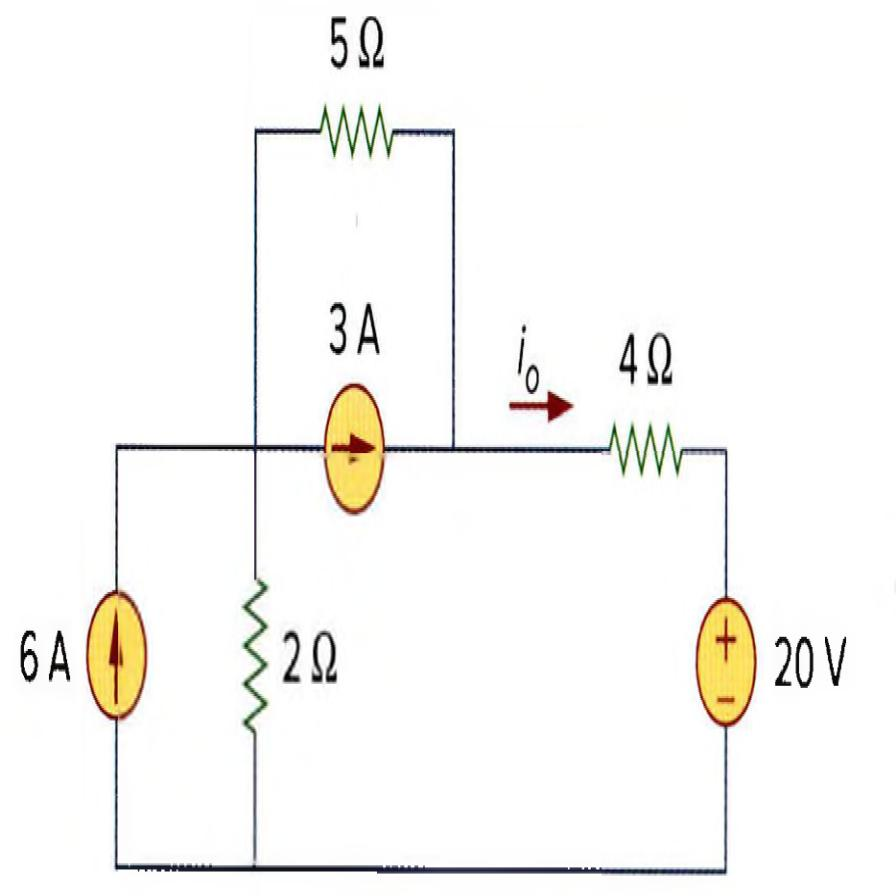I1: (81, 567, 157, 736)
I2: (309, 368, 396, 525)
R1: (308, 76, 408, 180), (605, 399, 687, 501)
R2: (232, 559, 276, 758)
V1: (691, 576, 763, 730)
